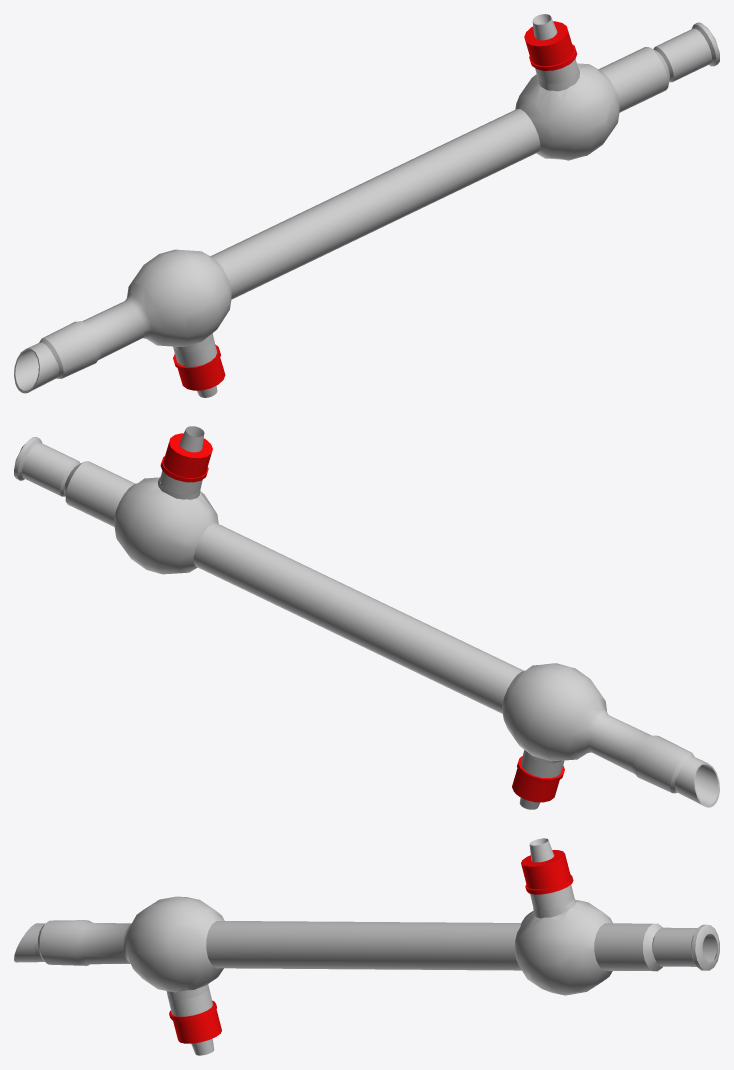
Rendered from liebig.obj.
The picture shows the model from 3 angles, top to bottom: view 1: azimuth 30°, elevation 25°; view 2: azimuth 150°, elevation 25°; view 3: azimuth 330°, elevation 25°; orthographic projection.
Visible parts, largest first — view 1: LieBIg_Cylinder.012; view 2: LieBIg_Cylinder.012; view 3: LieBIg_Cylinder.012.
Boxes of the visible parts, x1,y1,x2,y2 form: LieBIg_Cylinder.012: [14, 14, 719, 397]; LieBIg_Cylinder.012: [14, 426, 719, 809]; LieBIg_Cylinder.012: [14, 838, 719, 1055].
Bounding box in the file's own units: 7.24 × 2.95 × 0.878.
